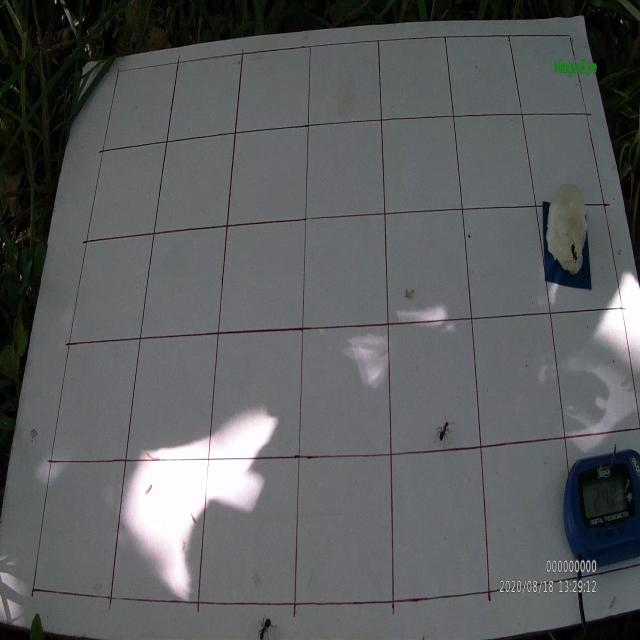Ant: (257, 612, 273, 640), (437, 416, 450, 442), (570, 242, 580, 263)
